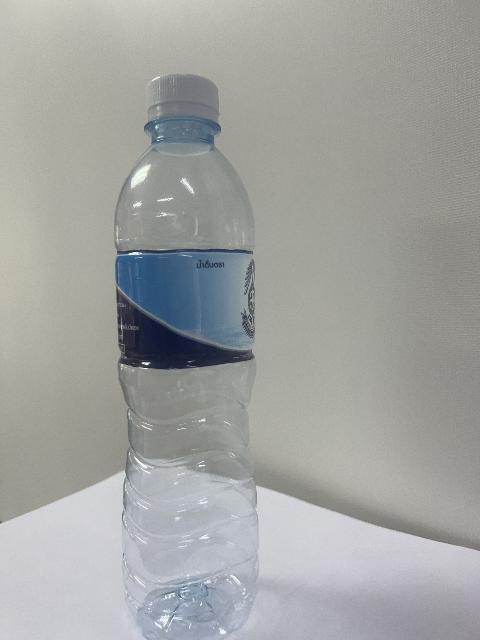bottle: (115, 75, 258, 639)
